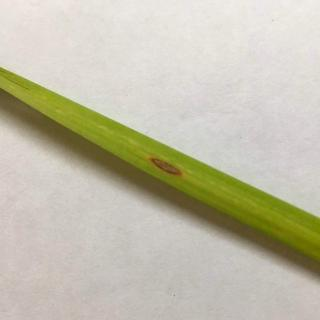Blast: (126, 136, 203, 202)
